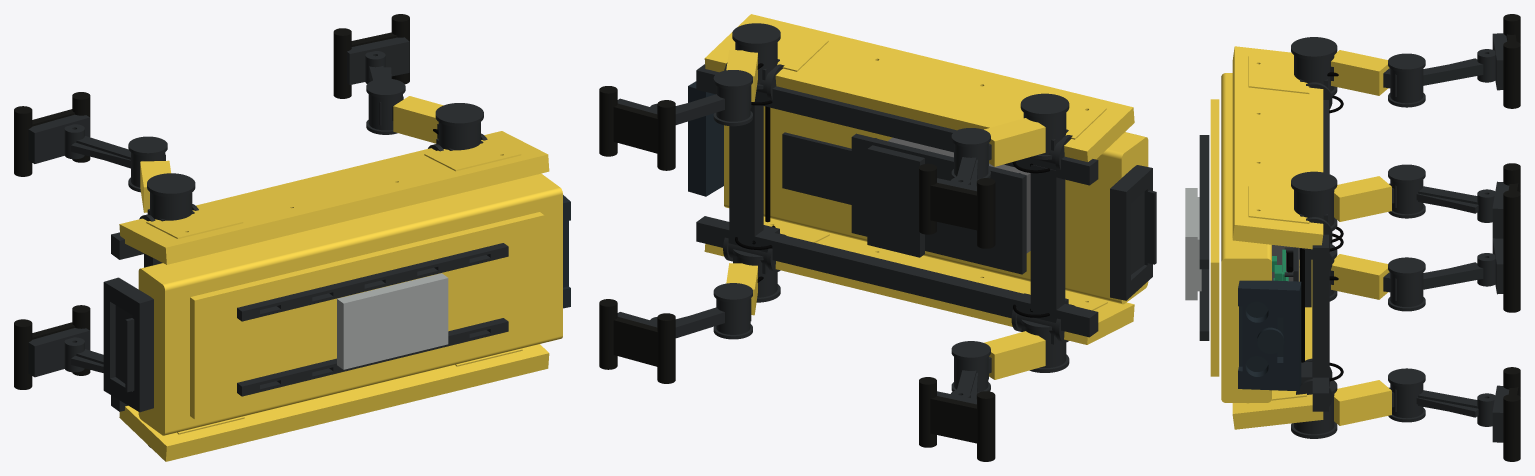
The model's file is .robot_dog_buildables_demo.step.glb.
The picture shows the model from 3 angles, left to right: view 1: azimuth 30°, elevation 25°; view 2: azimuth 150°, elevation 25°; view 3: azimuth 270°, elevation 25°; orthographic projection. The views are drawn at different scales.
Parts seen in each view (by area): view 1: o1.1.2, o1.1.1, o1.2.1, o1.3.1, o1.11.1, o1.5.1, o1.8.1, o1.9.1, o1.51.1, o1.42.1, o1.24.1, o1.25.1 (+14 smaller); view 2: o1.10.1, o1.2.1, o1.1.1, o1.6.1, o1.3.1, o1.10.2, o1.5.1, o1.25.1, o1.34.1, o1.52.1, o1.43.1, o1.7.1 (+24 smaller); view 3: o1.2.1, o1.4.1, o1.1.1, o1.10.1, o1.3.1, o1.1.2, o1.29.1, o1.20.1, o1.38.1, o1.47.1, o1.19.1, o1.37.1 (+27 smaller).
Boxes of the visible parts, bbox=[...] form: o1.1.2: bbox=[190, 212, 544, 419]; o1.1.1: bbox=[138, 173, 562, 435]; o1.2.1: bbox=[119, 131, 549, 264]; o1.3.1: bbox=[119, 344, 549, 461]; o1.11.1: bbox=[337, 273, 448, 369]; o1.5.1: bbox=[103, 277, 153, 412]; o1.8.1: bbox=[237, 243, 508, 321]; o1.9.1: bbox=[237, 318, 508, 396]; o1.51.1: bbox=[28, 328, 89, 377]; o1.42.1: bbox=[28, 114, 89, 163]; o1.24.1: bbox=[347, 37, 409, 84]; o1.25.1: bbox=[333, 14, 409, 98]; o1.10.1: bbox=[696, 64, 1098, 337]; o1.2.1: bbox=[704, 14, 1134, 161]; o1.1.1: bbox=[724, 106, 1148, 304]; o1.6.1: bbox=[851, 133, 1026, 274]; o1.3.1: bbox=[704, 217, 1134, 344]; o1.10.2: bbox=[867, 145, 924, 257]; o1.5.1: bbox=[1110, 165, 1152, 300]; o1.25.1: bbox=[599, 86, 675, 170]; o1.34.1: bbox=[599, 299, 675, 383]; o1.52.1: bbox=[919, 377, 995, 461]; o1.43.1: bbox=[919, 163, 995, 248]; o1.7.1: bbox=[782, 132, 851, 204]; o1.2.1: bbox=[1232, 46, 1323, 249]; o1.4.1: bbox=[1238, 280, 1301, 391]; o1.1.1: bbox=[1221, 73, 1271, 402]; o1.10.1: bbox=[1312, 100, 1329, 411]; o1.3.1: bbox=[1232, 260, 1323, 429]; o1.1.2: bbox=[1210, 99, 1219, 376]; o1.29.1: bbox=[1334, 380, 1391, 425]; o1.20.1: bbox=[1334, 176, 1391, 221]; o1.38.1: bbox=[1331, 50, 1389, 95]; o1.47.1: bbox=[1331, 254, 1389, 299]; o1.19.1: bbox=[1291, 171, 1337, 230]; o1.37.1: bbox=[1291, 37, 1337, 96].
Size of the model in its own units: 1.02 by 0.604 by 0.695.
